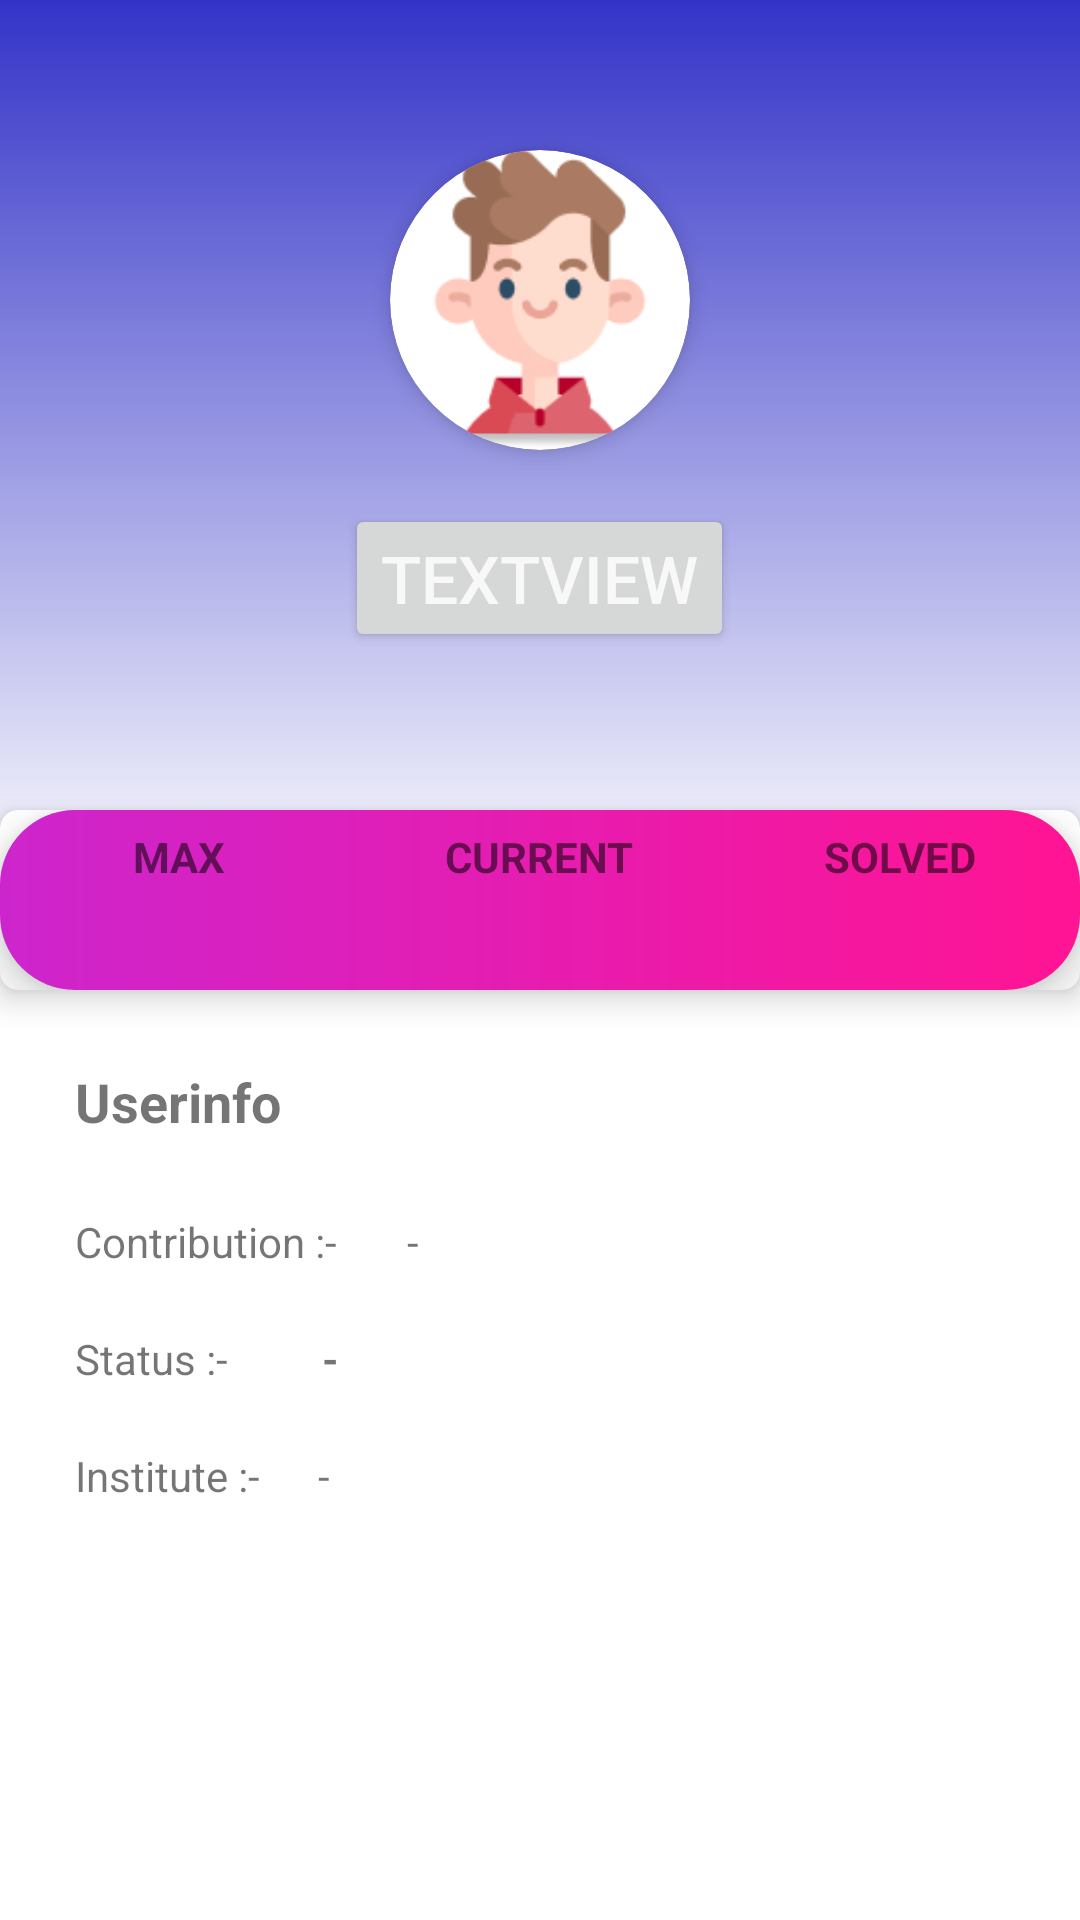

Point at icon controls on the screen. Image size 1080×1920, points as point (x, y).
boy: point (540, 300)
